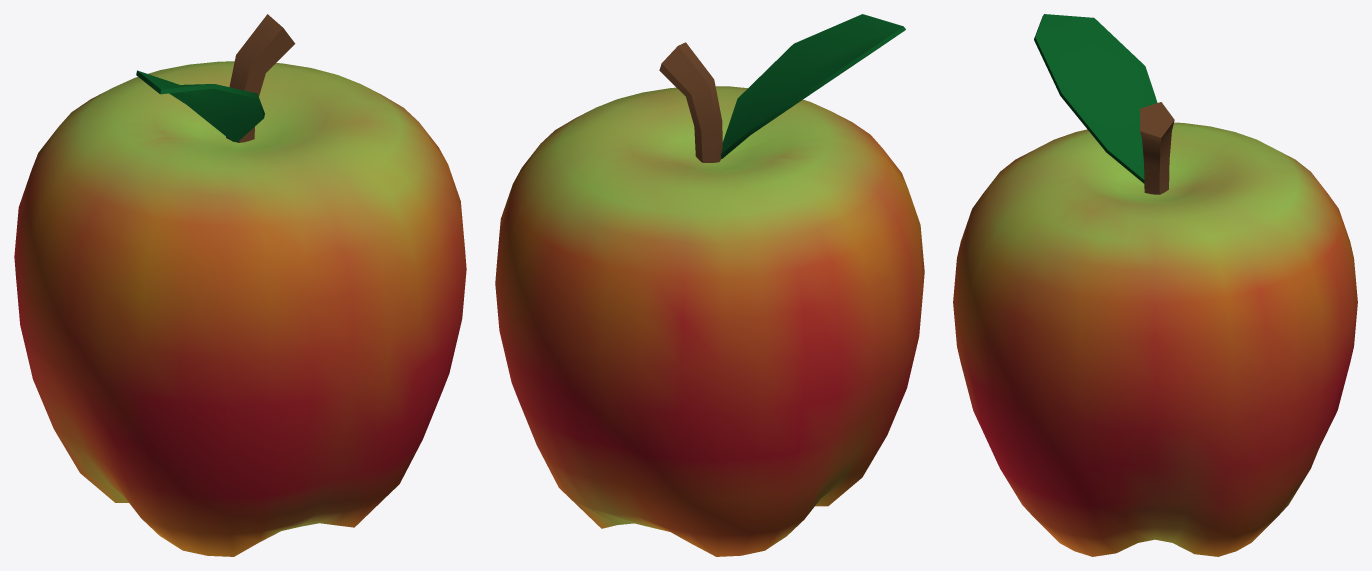
Rendered from apple.fbx.
The picture shows the model from 3 angles, left to right: view 1: azimuth 30°, elevation 25°; view 2: azimuth 150°, elevation 25°; view 3: azimuth 270°, elevation 25°; orthographic projection. The views are drawn at different scales.
Visible parts, largest first — view 1: Sphere; view 2: Sphere; view 3: Sphere.
Part boxes in pixels (left/top/right/bottom): Sphere: left=14, top=14, right=466, bottom=556; Sphere: left=495, top=14, right=924, bottom=556; Sphere: left=953, top=14, right=1357, bottom=556.
Size of the model in its own units: 10 by 10 by 12.03.
